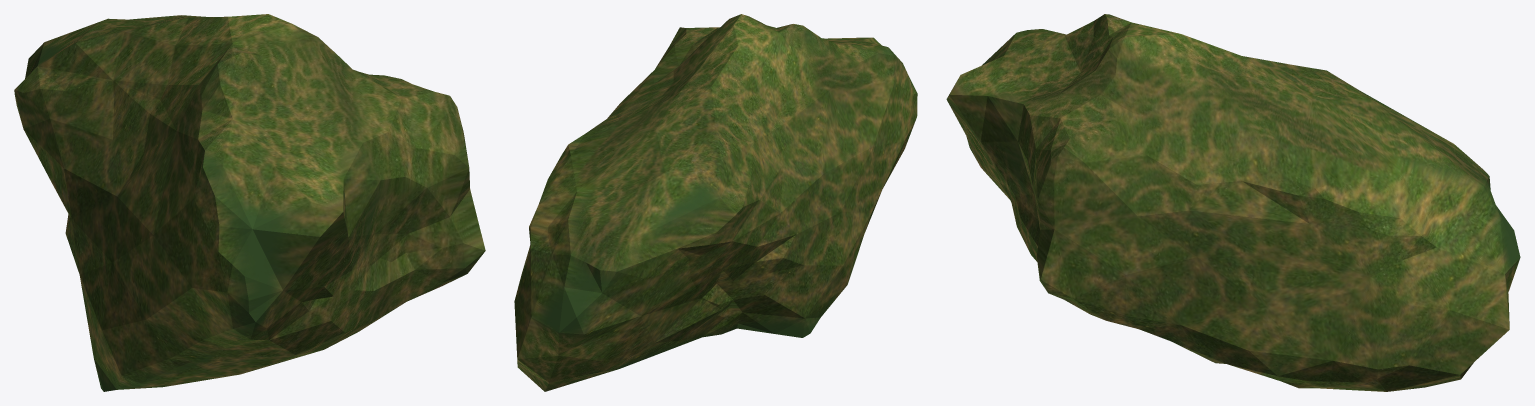
File: rock_2.fbx
3 views of the same model, side by side, from view 1: azimuth 30°, elevation 25°; view 2: azimuth 150°, elevation 25°; view 3: azimuth 270°, elevation 25° (orthographic). The views are drawn at different scales.
Parts seen in each view (by area): view 1: rock_2:Group2; view 2: rock_2:Group2; view 3: rock_2:Group2.
Part boxes in pixels (x1,y1,x2,y2): rock_2:Group2: (14, 14, 485, 391); rock_2:Group2: (514, 14, 917, 391); rock_2:Group2: (946, 14, 1520, 391).
Size of the model in its own units: 12.05 by 14.28 by 23.19.
